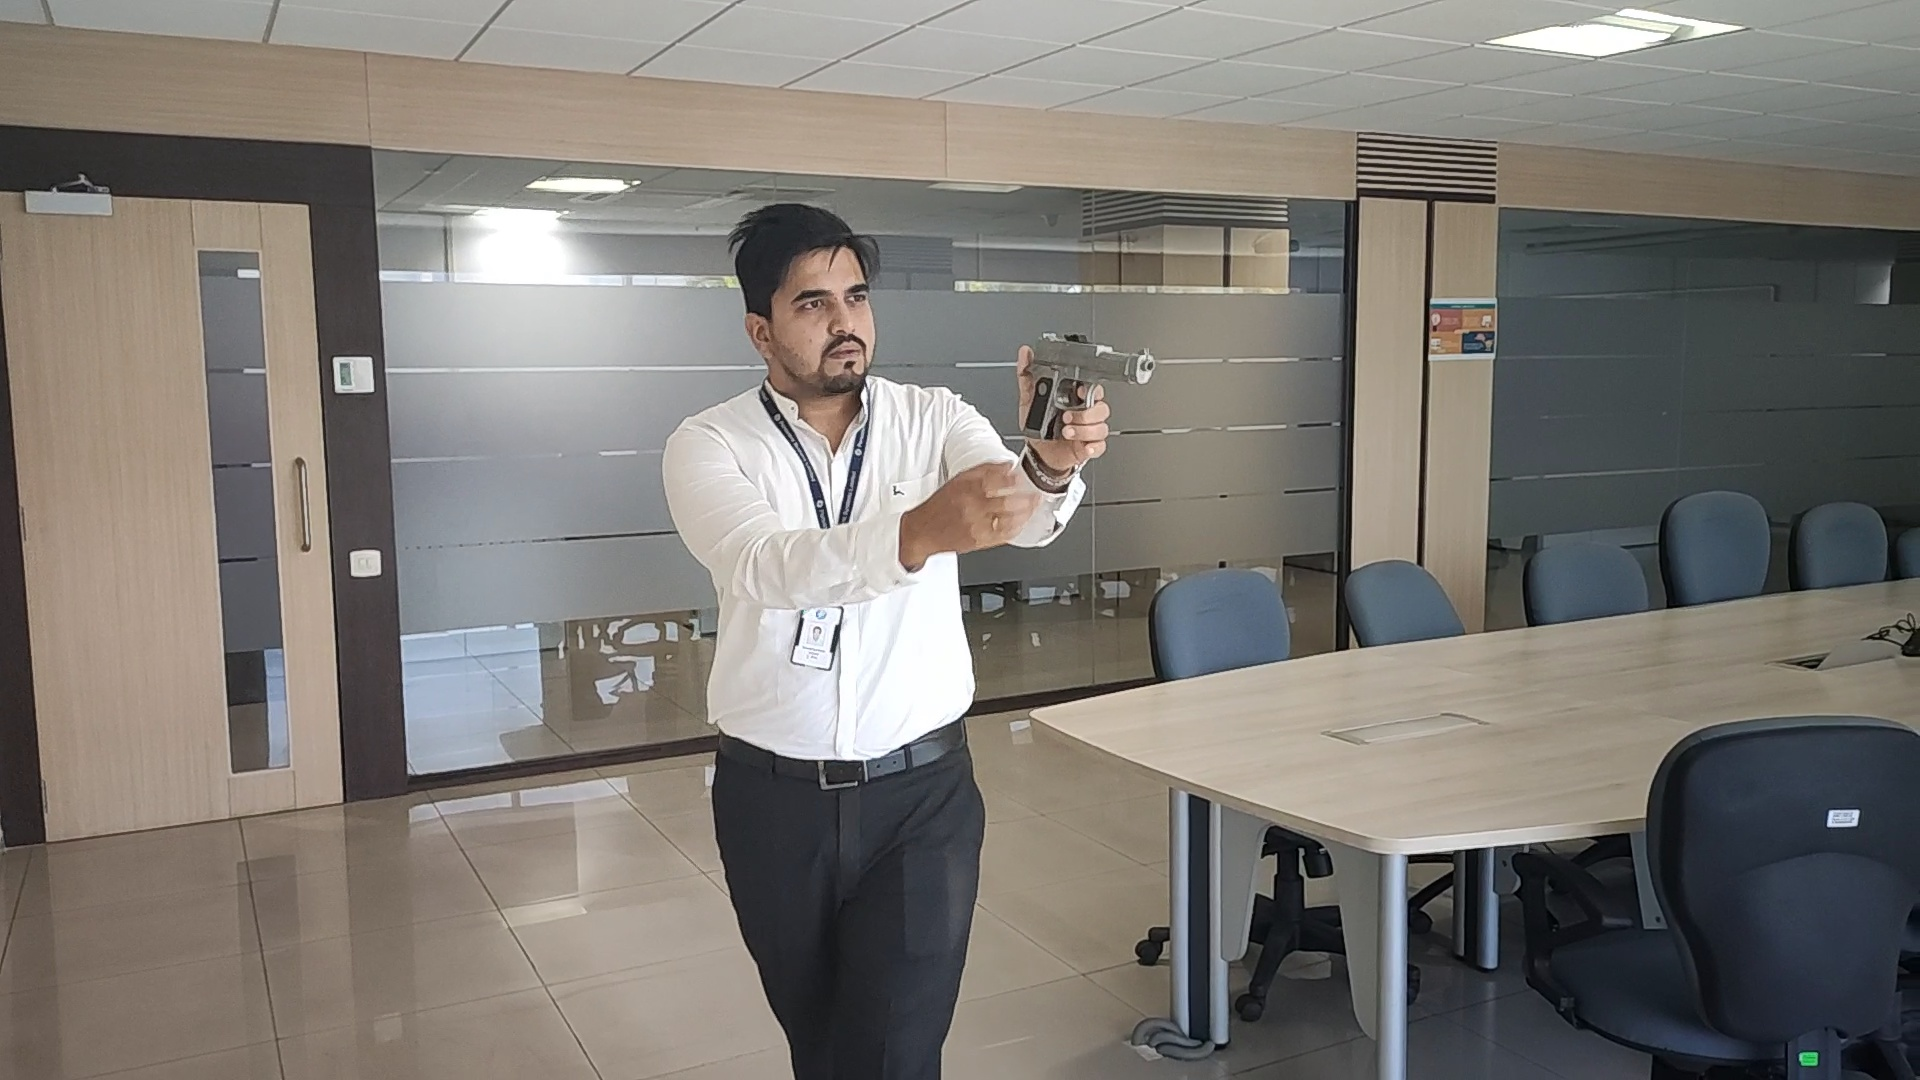gun: (1023, 334, 1156, 436)
